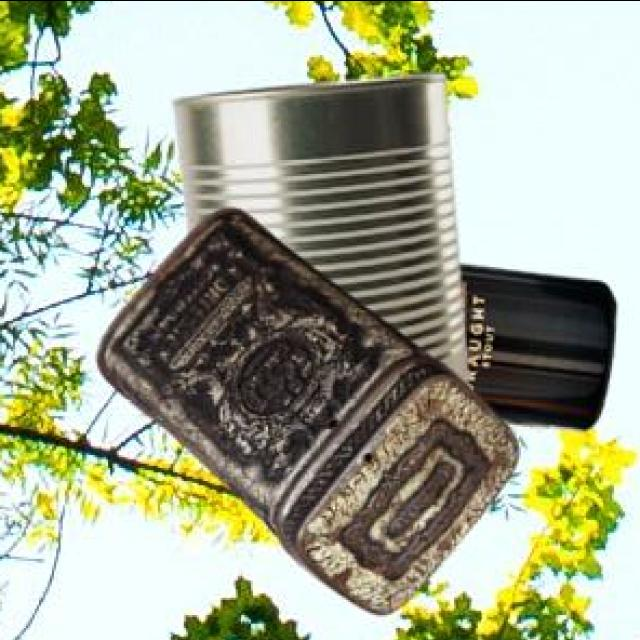logam: (94, 211, 516, 617), (172, 77, 464, 386), (456, 267, 613, 434)
